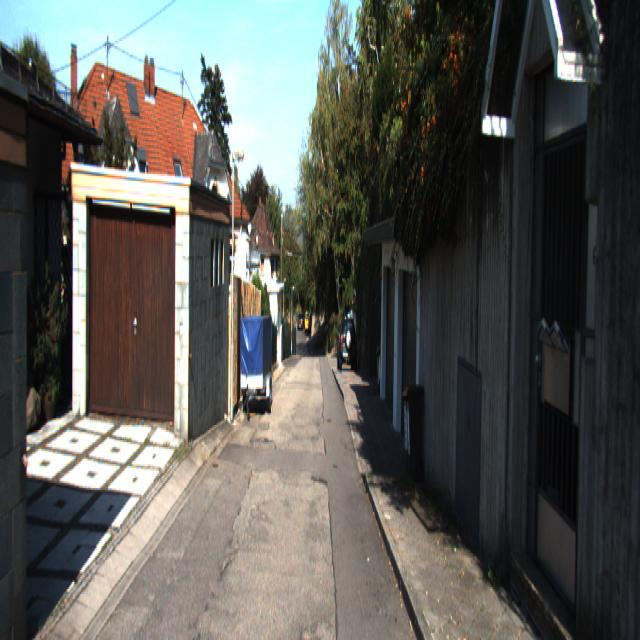Car: (336, 315, 358, 372)
DontCare: (295, 299, 311, 338)
Misc: (239, 313, 272, 420)
